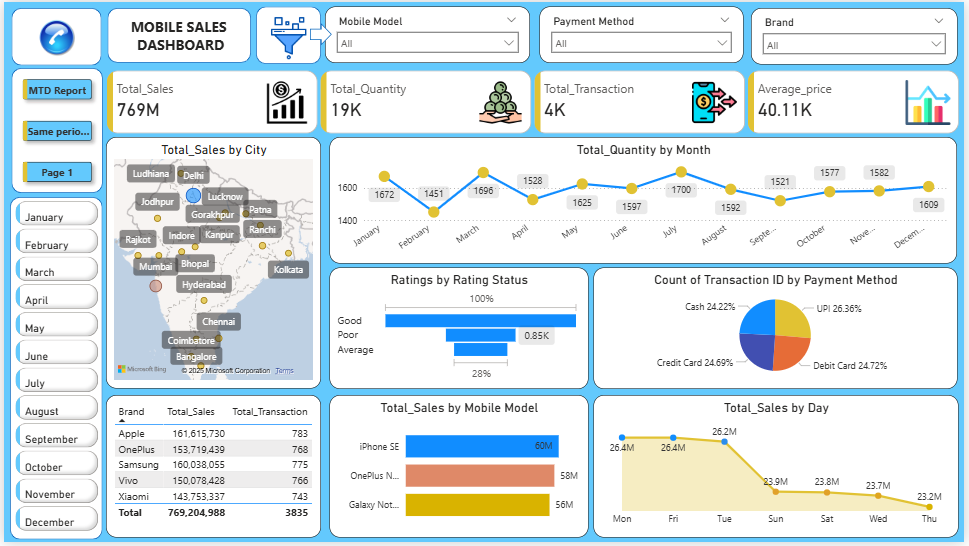

This screenshot's page, from the dashboard's own definition file:
{"tool":"powerbi","page":{"name":"Dashboard","canvas":[1280,720],"ordinal":0},"visuals":[{"type":"shape","box":[10,8.3,120,76.7],"z":0},{"type":"image","box":[10,5,120,83.3],"z":1000},{"type":"shape","box":[10,88.3,121.7,166.7],"z":2000},{"type":"shape","box":[8.3,260,123.3,456.7],"z":3000},{"type":"advancedSlicerVisual","fields":{"Values":["Customer_Calendar.Date.Variation.Date Hierarchy.Month"]},"box":[10,260,120,456.7],"z":4000},{"type":"cardVisual","fields":{"Data":["Mobile_Sales_Data.Total_Sales","Mobile_Sales_Data.Total_Quantity","Mobile_Sales_Data.Total_Transaction","Mobile_Sales_Data.Average_price"]},"box":[131.5,85.4,1148.5,94.6],"z":5000},{"type":"slicer","fields":{"Values":["Mobile_Sales_Data.Mobile Model"]},"box":[428.3,6.7,273.3,75],"z":6000},{"type":"slicer","fields":{"Values":["Mobile_Sales_Data.Payment Method"]},"box":[713.3,6.7,271.7,75],"z":7000},{"type":"slicer","fields":{"Values":["Mobile_Sales_Data.Brand"]},"box":[996.7,8.3,275,75],"z":8000},{"type":"shape","box":[336.7,6.7,86.7,76.7],"z":9000},{"type":"image","box":[336.7,13.3,86.7,68.3],"z":10000},{"type":"shape","box":[408.2,28.2,29.1,30],"z":11000},{"type":"shape","box":[137.7,8.5,191.5,73.1],"z":12000},{"type":"textbox","box":[147,13,175,64],"z":13000},{"type":"map","fields":{"Category":["Mobile_Sales_Data.City"],"Size":["Mobile_Sales_Data.Total_Sales"]},"box":[136.7,180,286.7,335],"z":14000},{"type":"lineChart","fields":{"Category":["Customer_Calendar.Date.Variation.Date Hierarchy.Month"],"Y":["Mobile_Sales_Data.Total_Quantity"]},"box":[433.3,180,836.7,168.3],"z":15000},{"type":"funnel","title":"Ratings by Rating Status","fields":{"Y":["CountNonNull(Mobile_Sales_Data.Customer Ratings)"],"Category":["Mobile_Sales_Data.Rating"]},"box":[433.3,353.3,345,161.7],"z":16000},{"type":"pieChart","fields":{"Category":["Mobile_Sales_Data.Payment Method"],"Y":["CountNonNull(Mobile_Sales_Data.Transaction ID)"]},"box":[785,353.3,485,161.7],"z":17000},{"type":"clusteredBarChart","fields":{"Y":["Mobile_Sales_Data.Total_Sales"],"Category":["Mobile_Sales_Data.Mobile Model"]},"box":[433.3,523.3,345,190],"z":18000},{"type":"areaChart","fields":{"Category":["Customer_Calendar.Day"],"Y":["Mobile_Sales_Data.Total_Sales"]},"box":[785,523.3,486.7,190],"z":19000},{"type":"tableEx","fields":{"Values":["Mobile_Sales_Data.Brand","Mobile_Sales_Data.Total_Sales","Mobile_Sales_Data.Total_Transaction"]},"box":[136.7,523.3,286.7,190],"z":20000},{"type":"pageNavigator","box":[15,93.3,110,156.7],"z":20001}]}

Visuals, with their boxes in screenshot pixels (x1, y1, x2, y2), scaled from the page's 1280x720 canvas onto the 969x546 screenshot:
shape: (8, 6, 98, 64)
image: (8, 4, 98, 67)
shape: (8, 67, 100, 193)
shape: (6, 197, 100, 543)
advancedSlicerVisual - Customer_Calendar.Date.Variation.Date Hierarchy.Month: (8, 197, 98, 543)
cardVisual - Mobile_Sales_Data.Total_Sales x Mobile_Sales_Data.Total_Quantity: (100, 65, 968, 136)
slicer - Mobile_Sales_Data.Mobile Model: (324, 5, 531, 62)
slicer - Mobile_Sales_Data.Payment Method: (540, 5, 746, 62)
slicer - Mobile_Sales_Data.Brand: (755, 6, 963, 63)
shape: (255, 5, 321, 63)
image: (255, 10, 321, 62)
shape: (309, 21, 331, 44)
shape: (104, 6, 249, 62)
textbox: (111, 10, 244, 58)
map - Mobile_Sales_Data.City x Mobile_Sales_Data.Total_Sales: (103, 136, 321, 391)
lineChart - Customer_Calendar.Date.Variation.Date Hierarchy.Month x Mobile_Sales_Data.Total_Quantity: (328, 136, 961, 264)
"Ratings by Rating Status" funnel: (328, 268, 589, 391)
pieChart - Mobile_Sales_Data.Payment Method x CountNonNull(Mobile_Sales_Data.Transaction ID): (594, 268, 961, 391)
clusteredBarChart - Mobile_Sales_Data.Total_Sales x Mobile_Sales_Data.Mobile Model: (328, 397, 589, 541)
areaChart - Customer_Calendar.Day x Mobile_Sales_Data.Total_Sales: (594, 397, 963, 541)
tableEx - Mobile_Sales_Data.Brand x Mobile_Sales_Data.Total_Sales: (103, 397, 321, 541)
pageNavigator: (11, 71, 95, 190)
